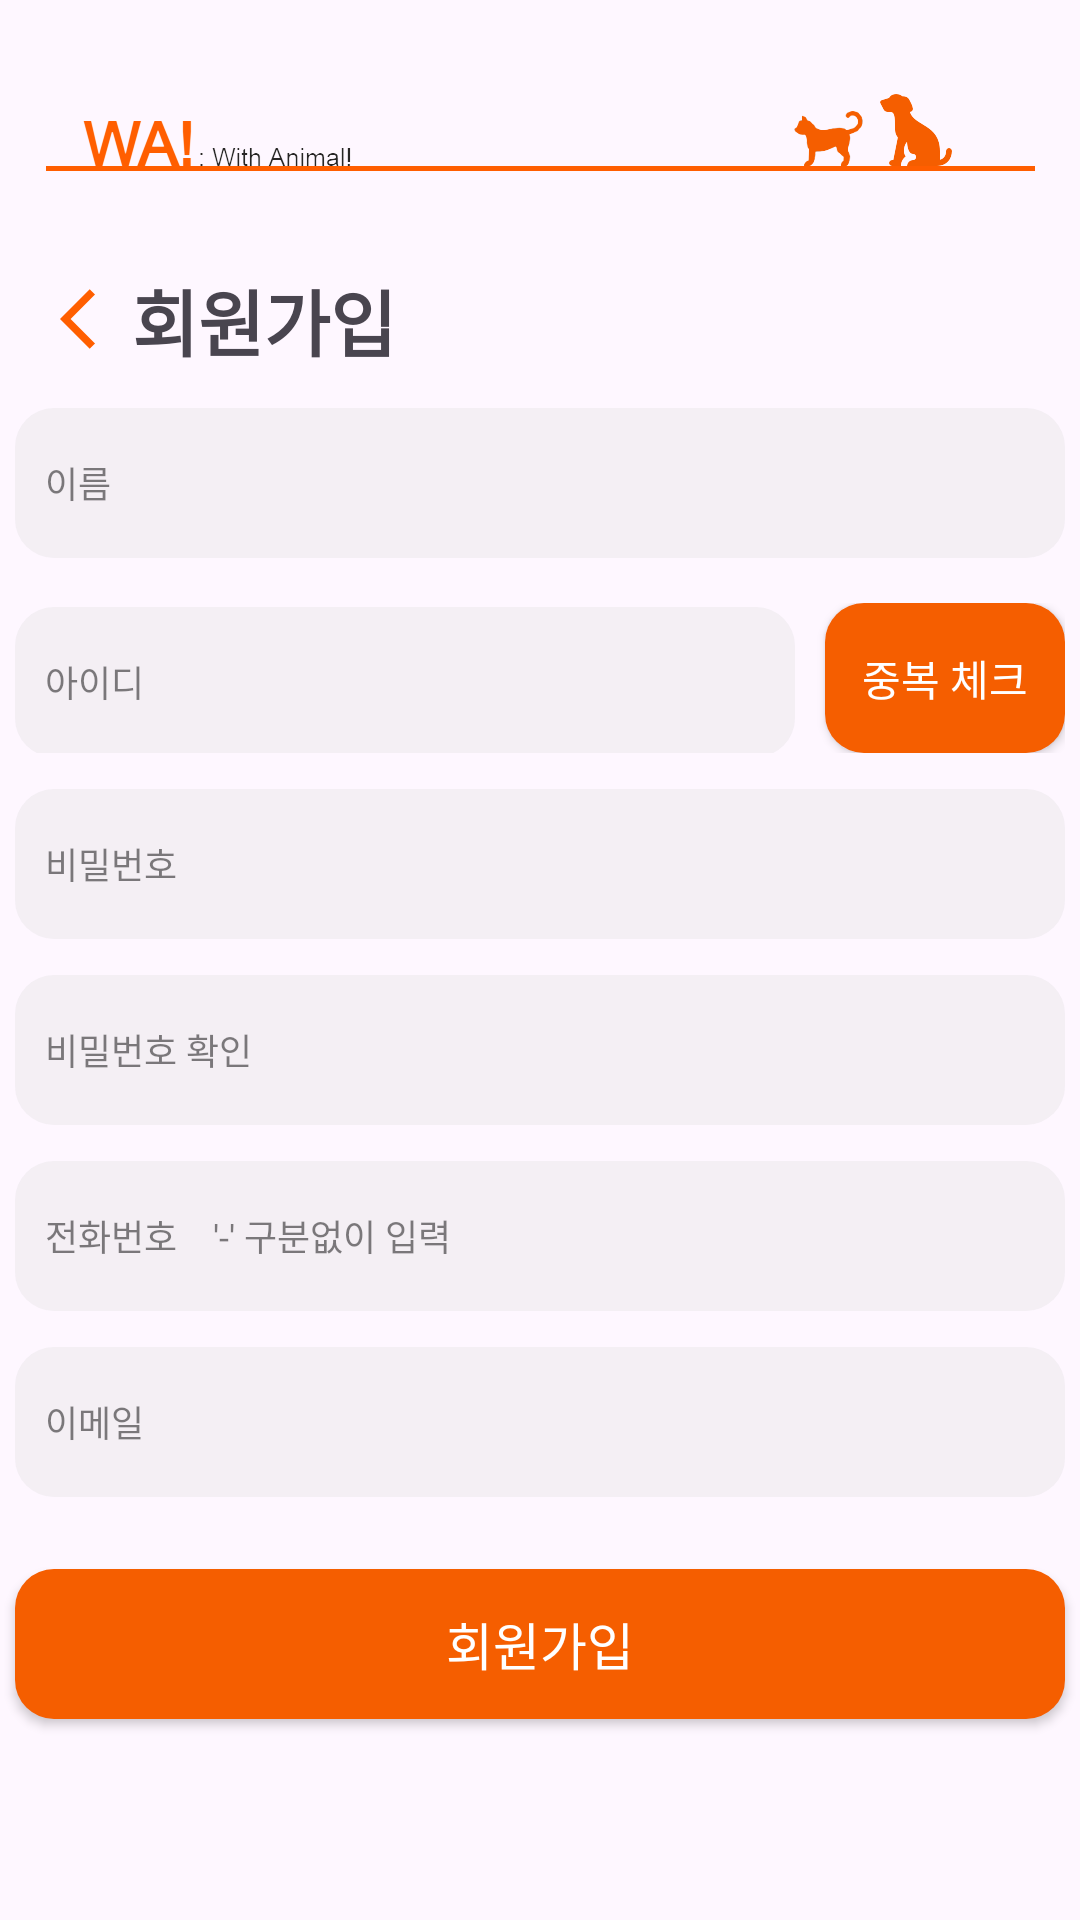

Named icons in this screenshot (1080x1920) and their bounding boxes, (x1=x1, y1=y1, x2=x2, y2=y2):
arrow back: (x1=60, y1=289, x2=95, y2=349)
